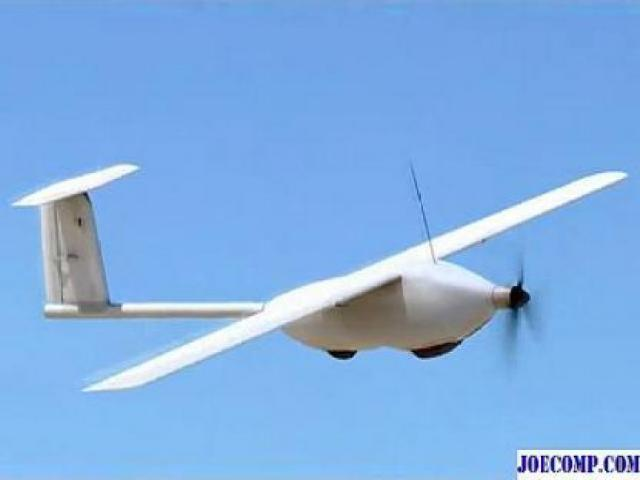uav: (5, 150, 630, 406)
